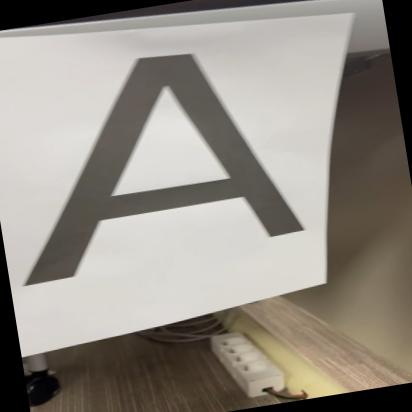seat: (0, 25, 317, 304)
